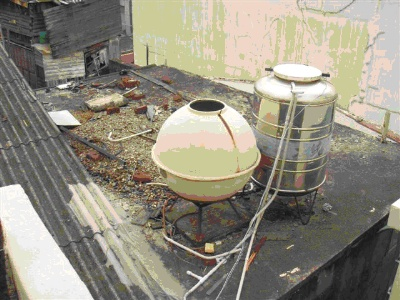water_tower: (252, 63, 339, 200), (154, 97, 262, 204)
